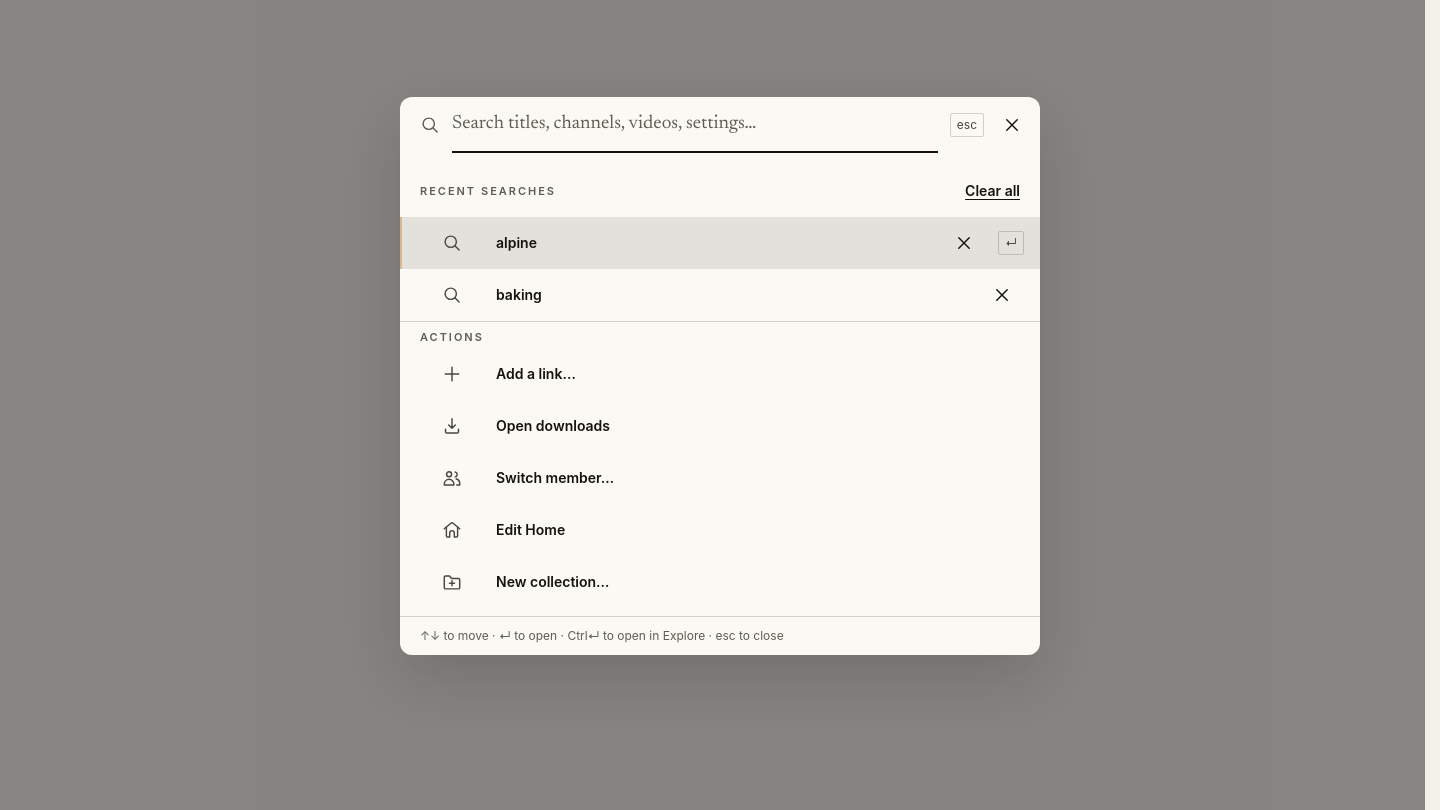
Test case: CommandPalette › drops a response for an older query
Type "al" into the dropdown at x=695, y=125, box [452,98,938,152]
Wait 200 ms
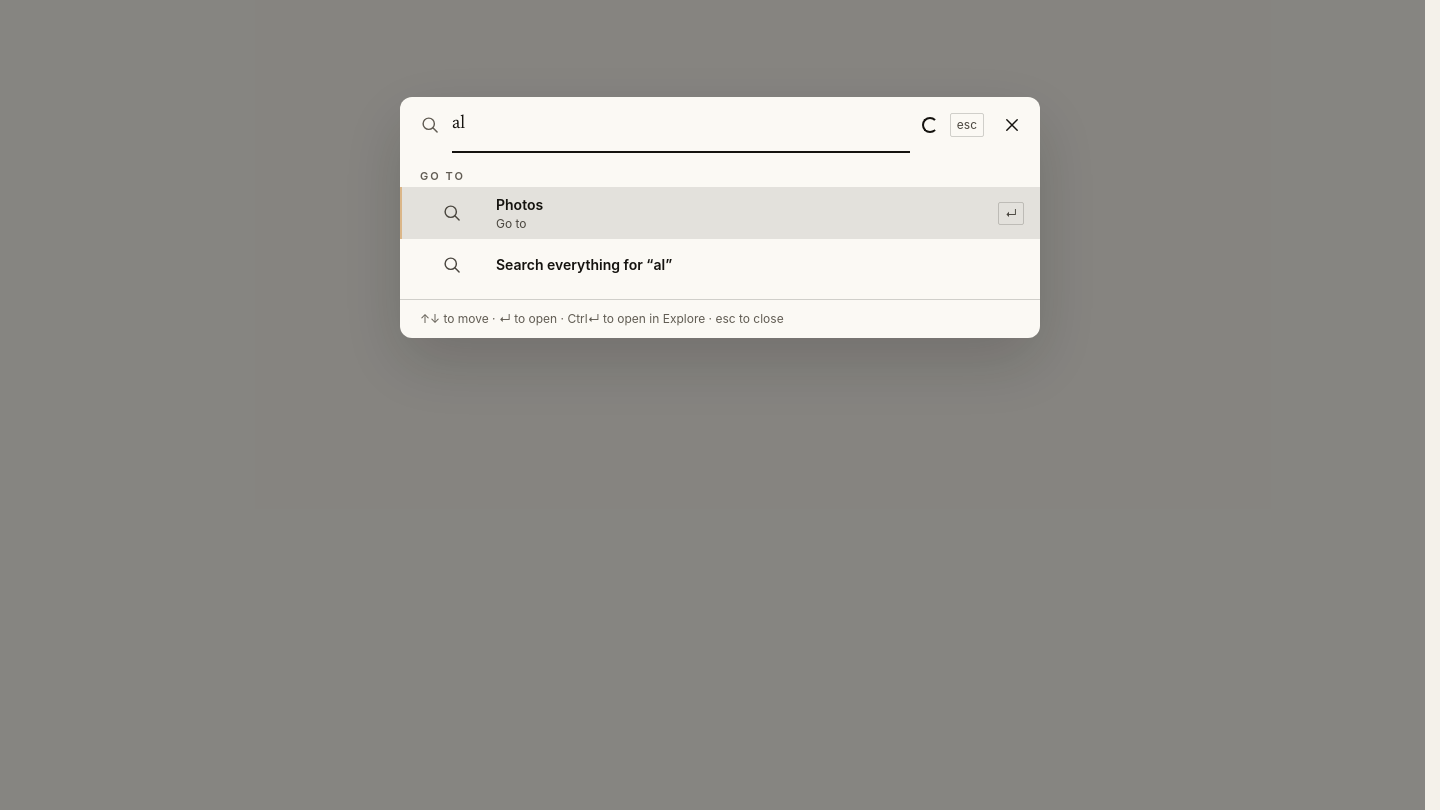
Type "p" into the dropdown at x=681, y=125, box [452,98,910,152]
Wait 200 ms
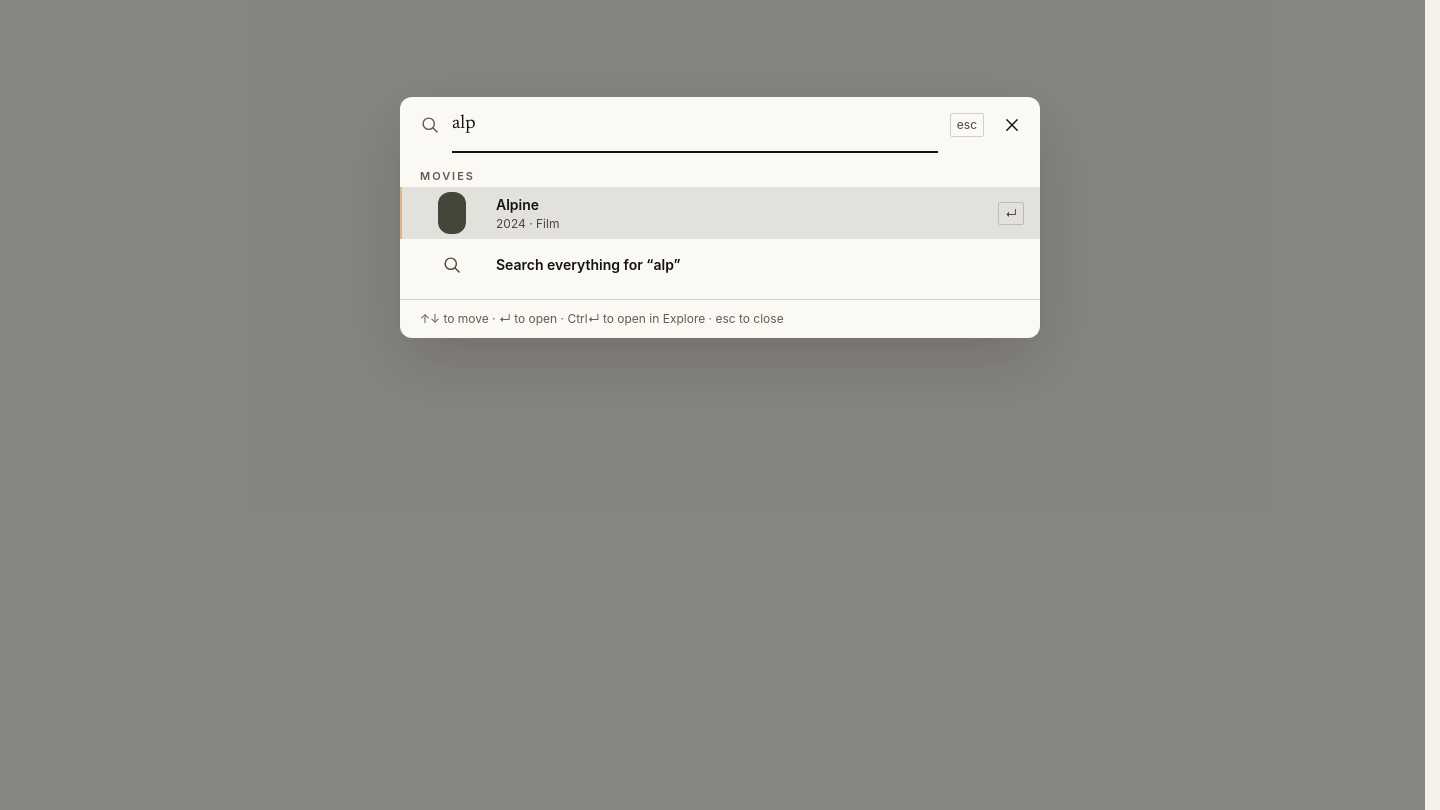
Expected: the text "Alpine" is shown, [496,196,539,213]
